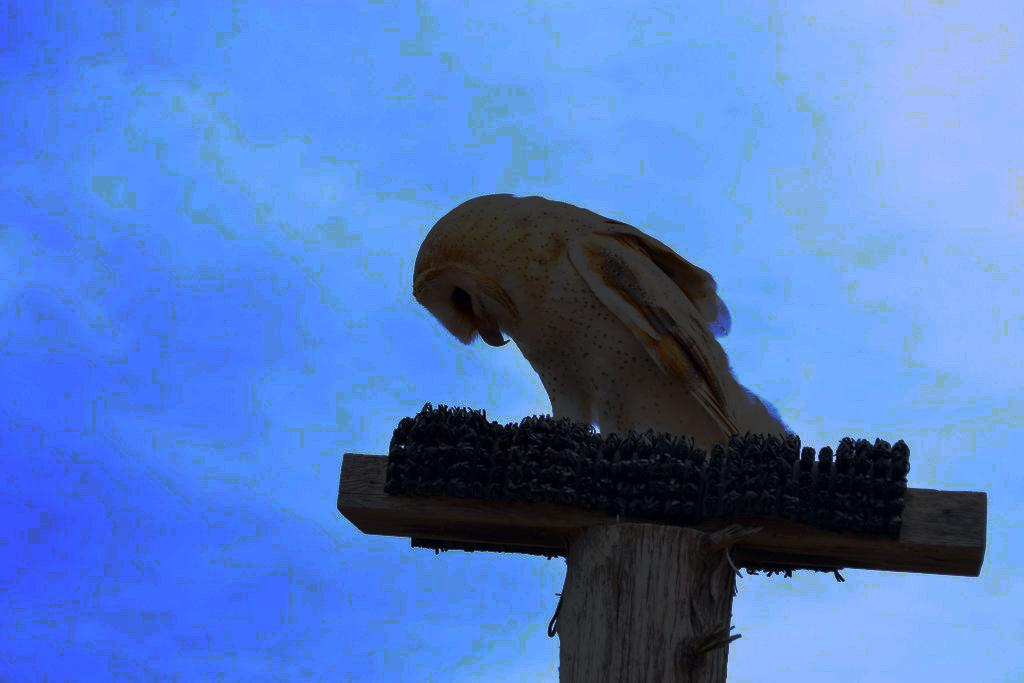Owl: (407, 188, 799, 458)
